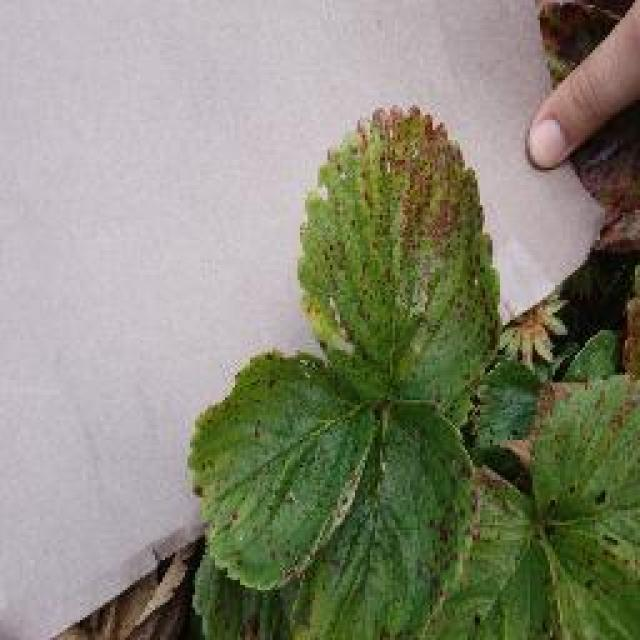Strawberry leaf scorch: (345, 145, 460, 318)
